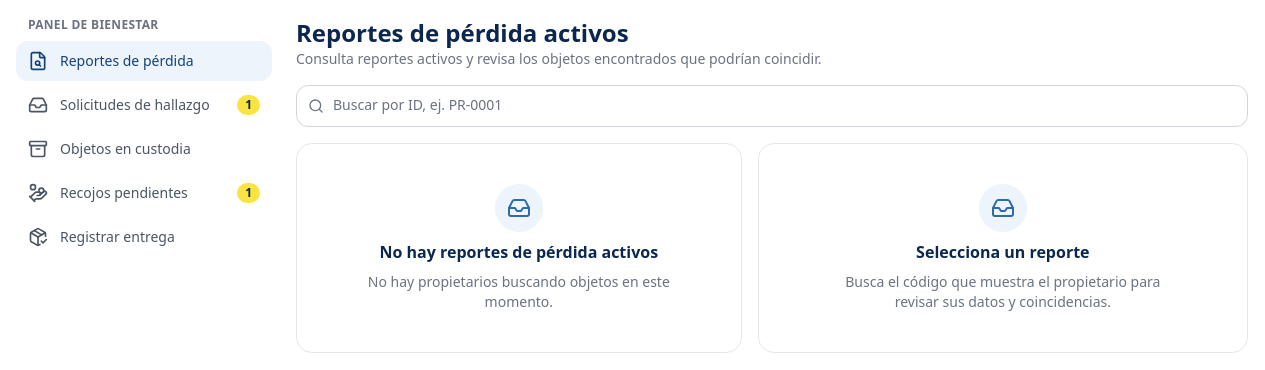
Scenario: Panel de Bienestar › muestra quien vendra, su reporte y el objeto que recogera
Step 1. Click the button "Recojos pendientes 1" → (144, 193), box 16,173 -> 272,213
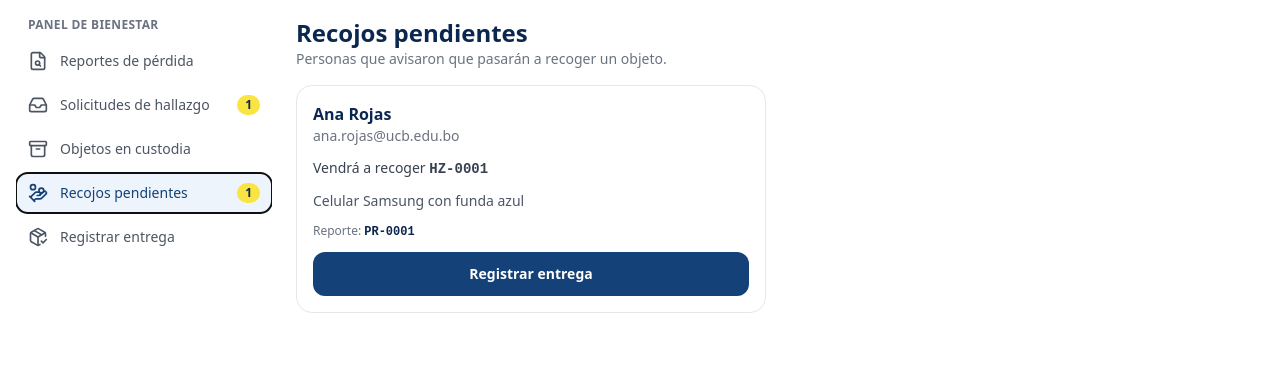
Expected: the element "Recojos pendientes" is shown, 296,16 -> 766,313
Expected: the text "Ana Rojas" is shown, 313,103 -> 391,125
Expected: the text "ana.rojas@ucb.edu.bo" is shown, 313,126 -> 460,145
